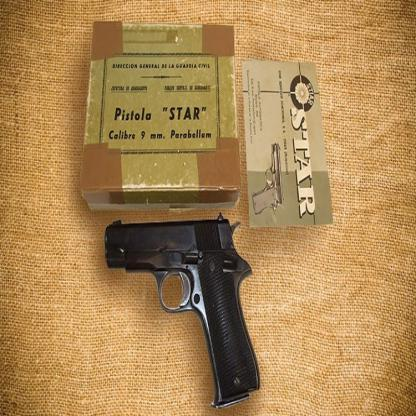Pistol: (102, 211, 261, 411)
